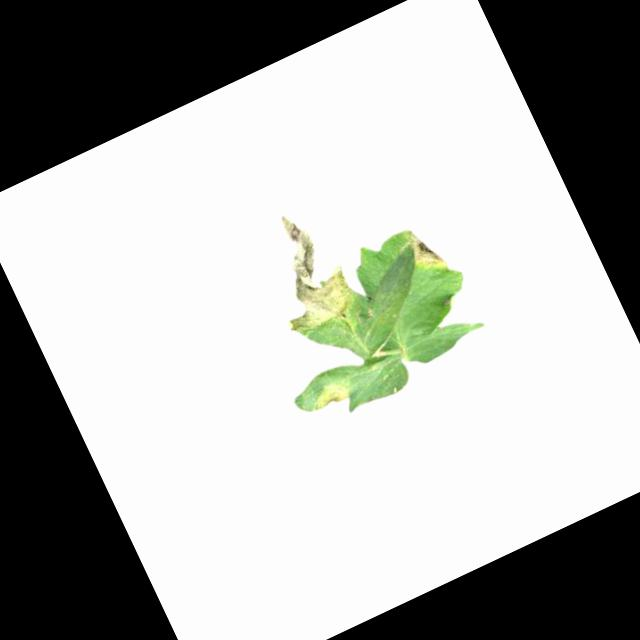Late_blight: (242, 198, 366, 345), (397, 218, 448, 277), (305, 373, 360, 420)
